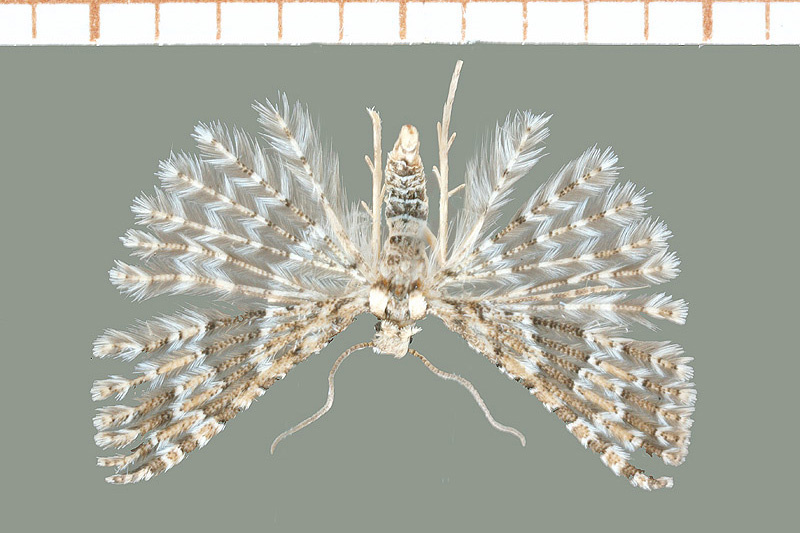Alucitidae: (89, 53, 720, 500)
moth: (91, 55, 722, 502)
